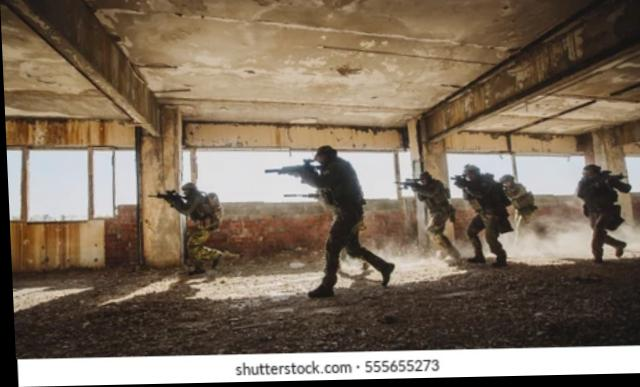other: (304, 151, 388, 294), (449, 162, 514, 266), (166, 183, 223, 285), (576, 161, 630, 265), (412, 168, 459, 262), (499, 173, 538, 244)
